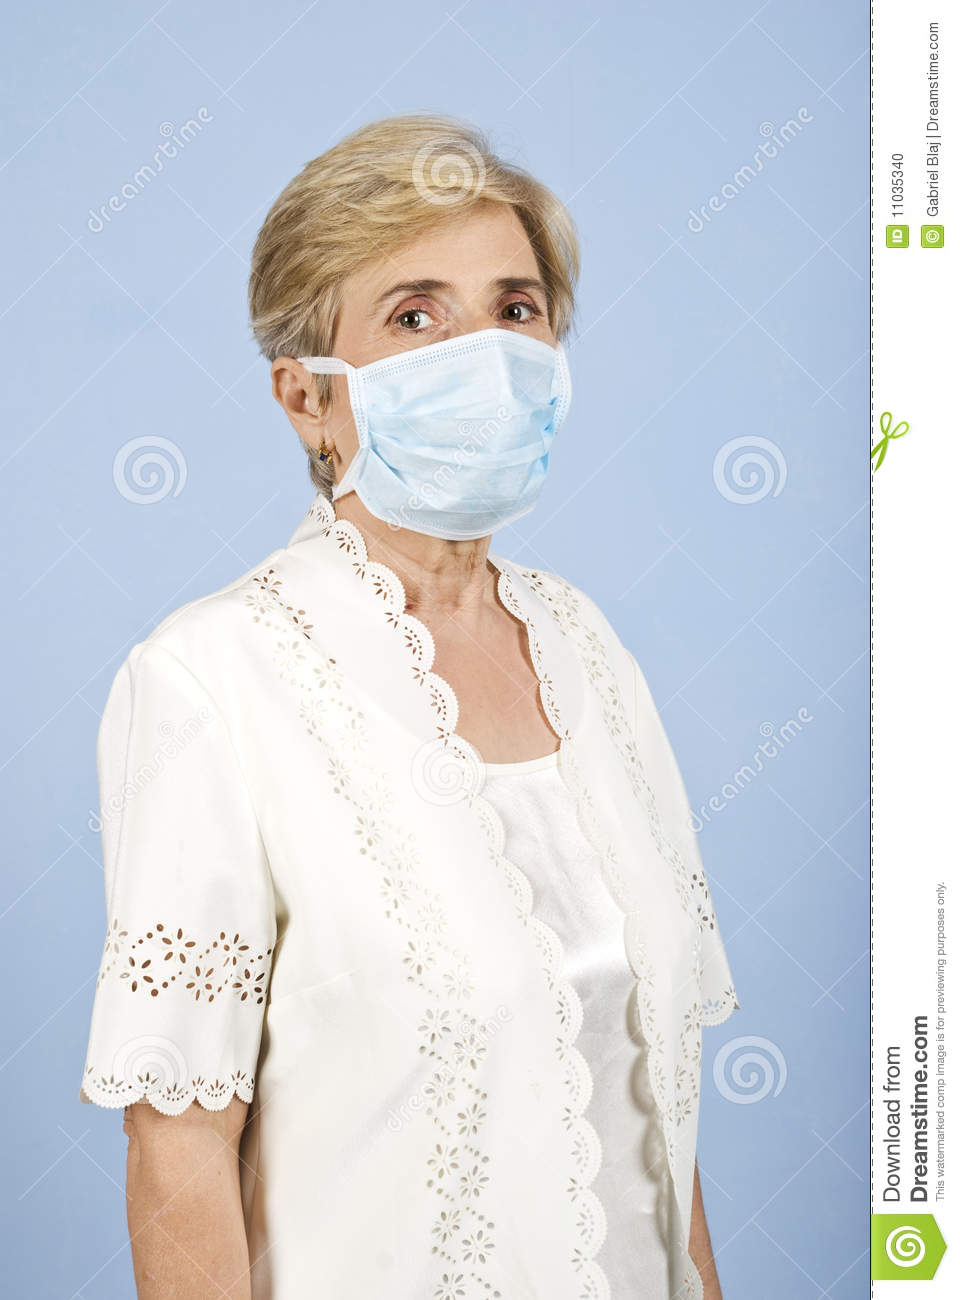mask: (340, 331, 567, 531)
